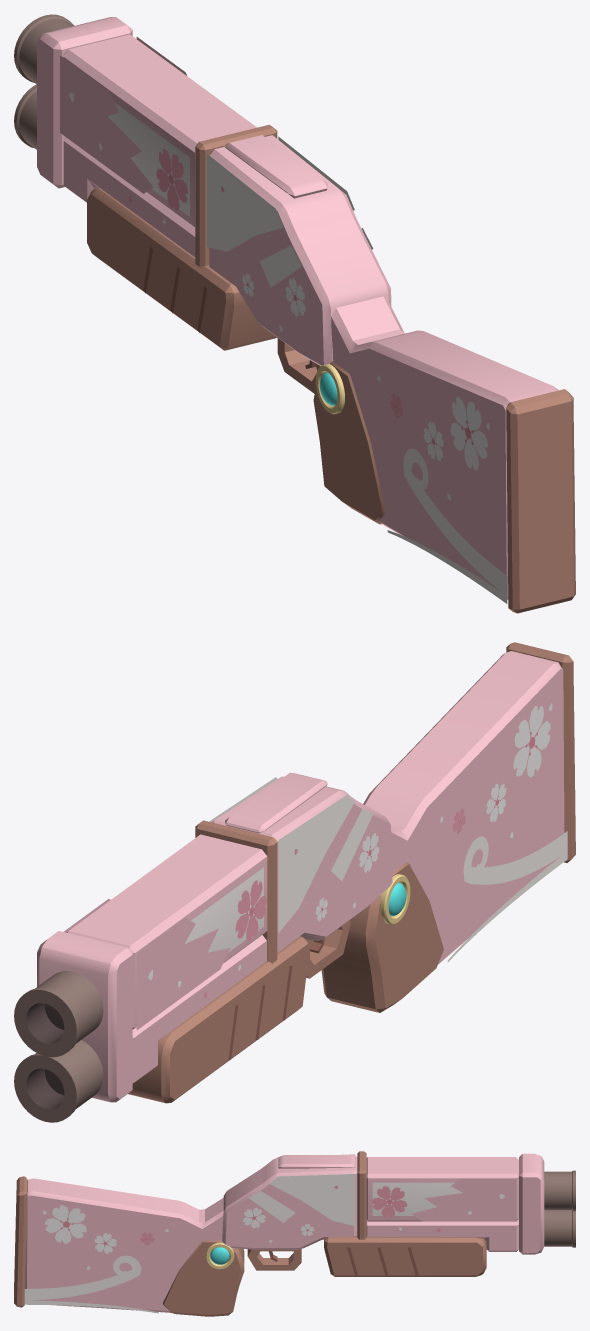
File: weapon_shotgun.glb
The picture shows the model from 3 angles, top to bottom: view 1: azimuth 30°, elevation 25°; view 2: azimuth 150°, elevation 25°; view 3: azimuth 270°, elevation 25°; orthographic projection. The views are drawn at different scales.
Visible parts, largest first — view 1: SG_Body, SG_Wood, SG_Patch, SG_Wave, SG_FlowerWhite, SG_Barrels, SG_FlowerPink, SG_Bezel; view 2: SG_Body, SG_Wood, SG_Barrels, SG_Patch, SG_Wave, SG_FlowerWhite, SG_FlowerPink, SG_Bezel, SG_Groove; view 3: SG_Body, SG_Wood, SG_Patch, SG_Barrels, SG_Wave, SG_FlowerWhite, SG_FlowerPink, SG_Groove, SG_Bezel, SG_Gem.
Part boxes in pixels (<box>): SG_Body: <box>37,17,558,599</box>; SG_Wood: <box>87,124,575,613</box>; SG_Patch: <box>60,37,186,193</box>; SG_Wave: <box>387,448,507,603</box>; SG_FlowerWhite: <box>69,92,489,500</box>; SG_Barrels: <box>14,14,74,149</box>; SG_FlowerPink: <box>128,148,403,418</box>; SG_Bezel: <box>315,364,344,414</box>; SG_Body: <box>37,651,564,1102</box>; SG_Wood: <box>128,642,575,1103</box>; SG_Barrels: <box>14,971,103,1122</box>; SG_Patch: <box>63,899,230,1030</box>; SG_Wave: <box>447,831,567,961</box>; SG_FlowerWhite: <box>148,703,552,987</box>; SG_FlowerPink: <box>203,808,465,998</box>; SG_Bezel: <box>381,874,410,924</box>; SG_Groove: <box>228,939,324,1060</box>; SG_Body: <box>25,1153,544,1312</box>; SG_Wood: <box>14,1151,486,1316</box>; SG_Patch: <box>412,1178,516,1221</box>; SG_Barrels: <box>544,1170,575,1247</box>; SG_Wave: <box>24,1255,158,1313</box>; SG_FlowerWhite: <box>43,1194,504,1269</box>; SG_FlowerPink: <box>140,1185,440,1245</box>; SG_Groove: <box>268,1247,418,1275</box>; SG_Bezel: <box>205,1242,234,1269</box>; SG_Gem: <box>210,1247,229,1264</box>.
Size of the model in its own units: 0.0944 by 0.284 by 0.9617.
